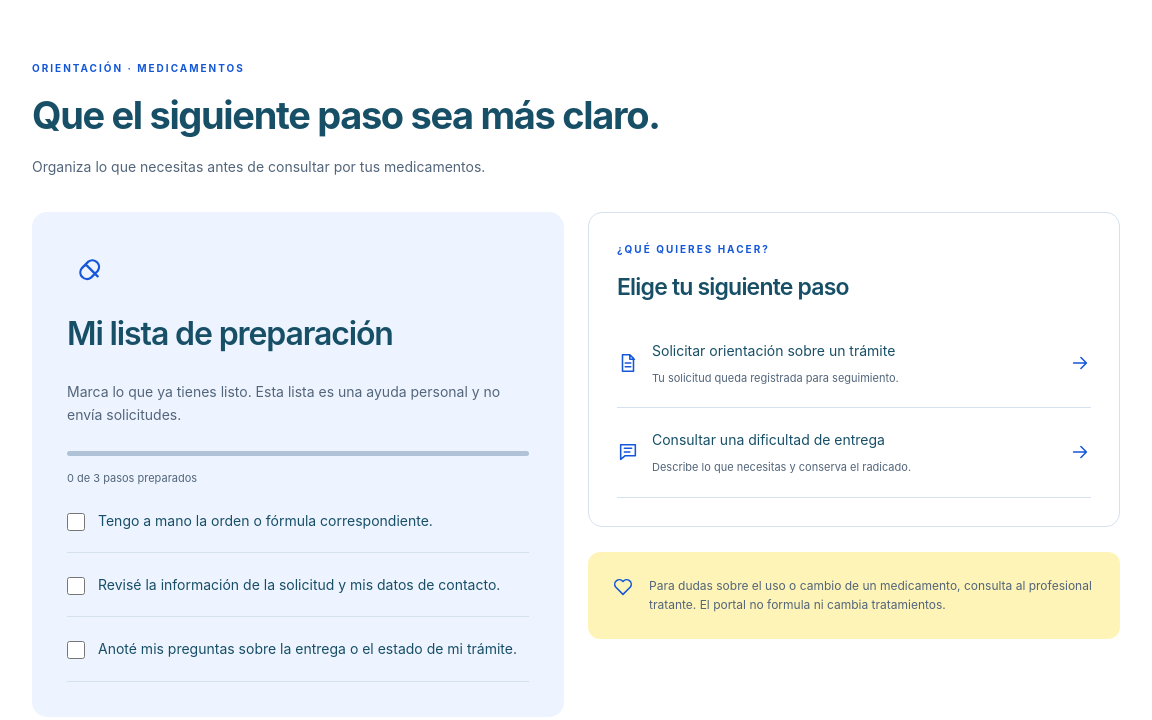
medicamentos tiene una lista interactiva con progreso
Click the checkbox labelled "Tengo a mano la orden o fórmula correspondiente." at [76, 522], box [67,513,85,531]
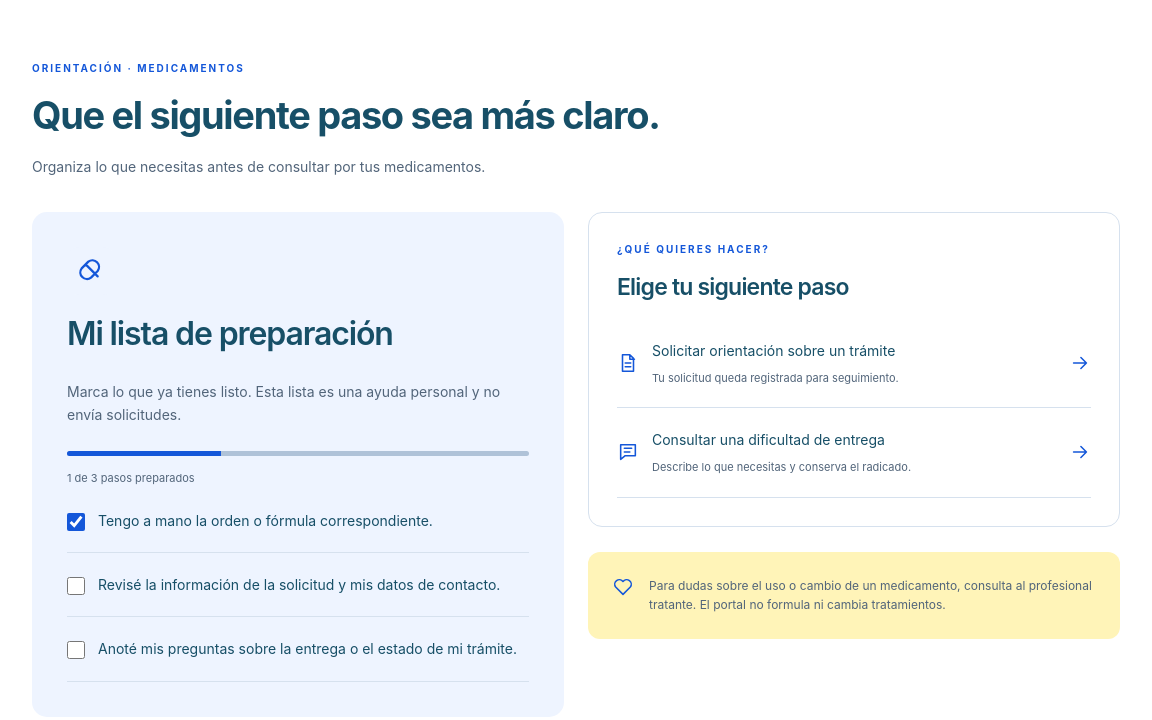
Click the 2nd checkbox at [76, 586], box [67,577,85,595]
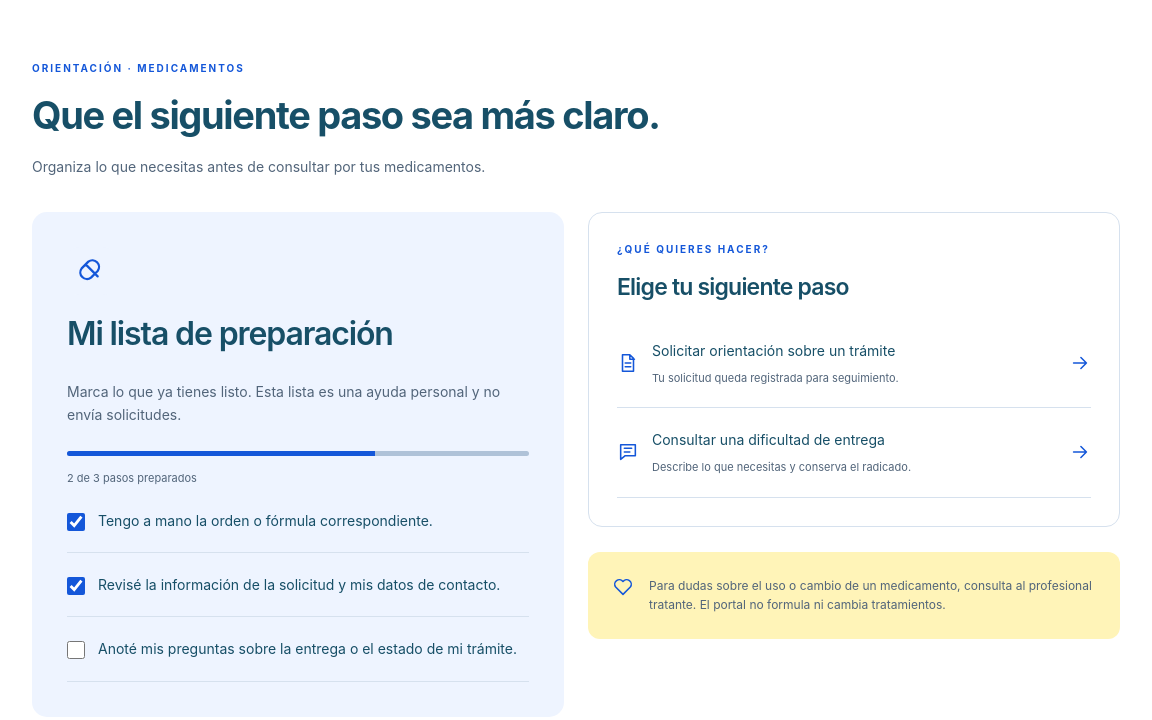
Click the 3rd checkbox at [76, 650], box [67,642,85,660]
(page scrolled)
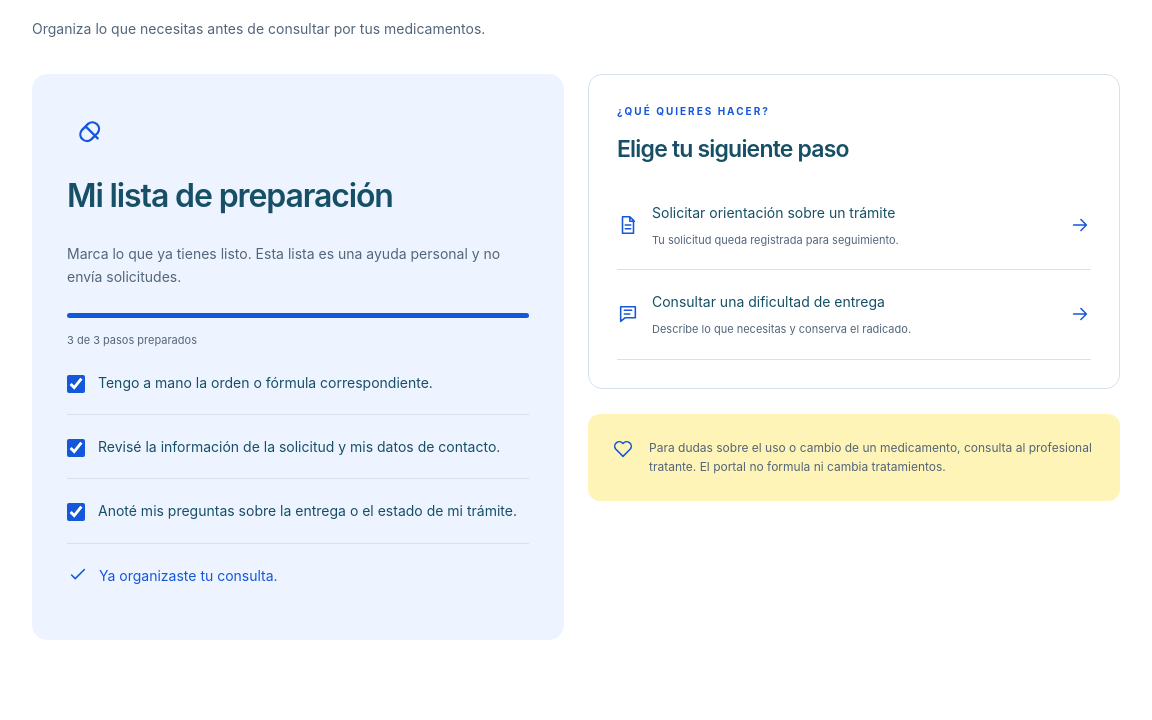
Check: the text "Ya organizaste tu consulta." is shown, box [67,564,278,586]
